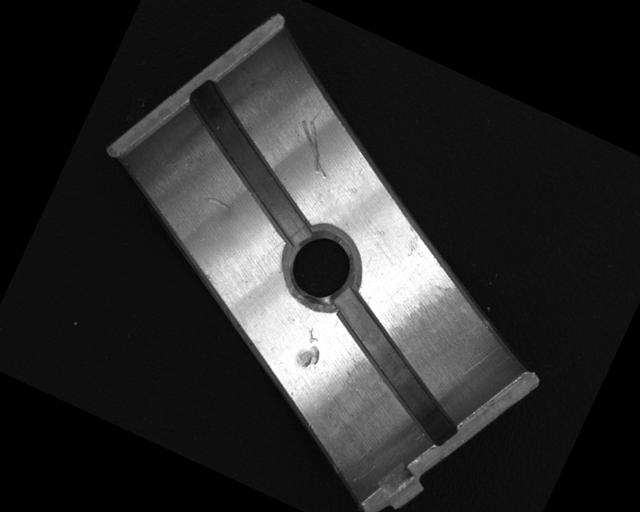bruise: (292, 326, 330, 374)
gap: (151, 75, 348, 247), (302, 285, 490, 448)
hole: (268, 216, 369, 318)
nick: (282, 115, 345, 181), (207, 195, 234, 211)
